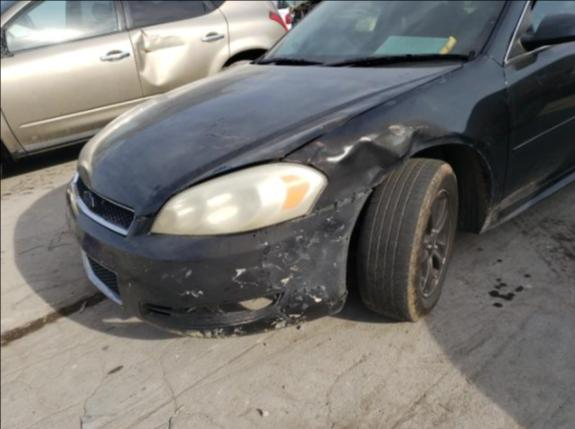Broken part: (133, 63, 463, 222), (368, 129, 492, 191)
Corrosion: (201, 113, 352, 177), (283, 137, 330, 167), (150, 233, 216, 236)
Dent: (304, 118, 478, 198), (480, 183, 543, 232), (76, 166, 91, 188)
Flaking: (86, 188, 372, 337)
Missing part: (139, 290, 284, 327)
